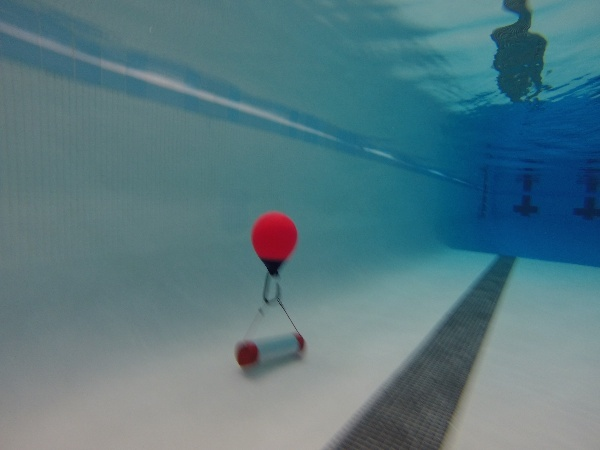buoy_red: (245, 209, 303, 279)
